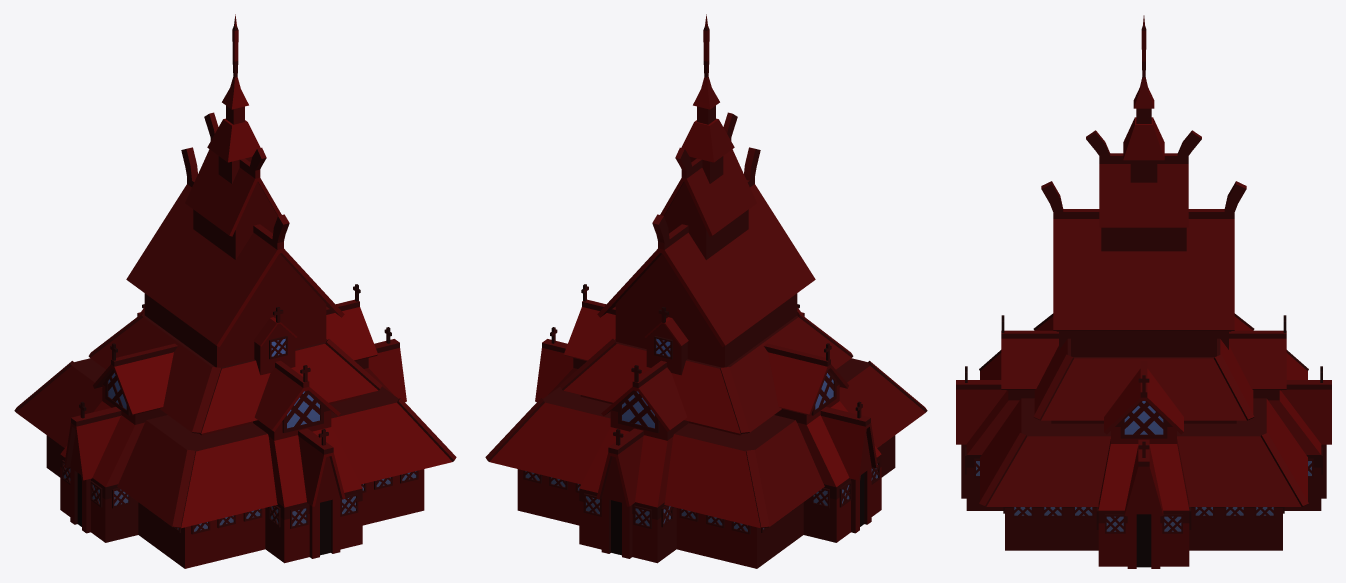
Rendered from buildings-historical-churchold_v1.fbx.
The picture shows the model from 3 angles, left to right: view 1: azimuth 30°, elevation 25°; view 2: azimuth 150°, elevation 25°; view 3: azimuth 270°, elevation 25°; orthographic projection.
Parts seen in each view (by area): view 1: ChurchOld_base, ChurchOld_windowRefl; view 2: ChurchOld_base, ChurchOld_windowRefl; view 3: ChurchOld_base, ChurchOld_windowRefl.
Boxes of the visible parts, bbox=[...] form: ChurchOld_base: bbox=[14, 14, 456, 568]; ChurchOld_windowRefl: bbox=[64, 338, 416, 531]; ChurchOld_base: bbox=[485, 14, 927, 568]; ChurchOld_windowRefl: bbox=[525, 338, 877, 531]; ChurchOld_base: bbox=[956, 15, 1331, 568]; ChurchOld_windowRefl: bbox=[976, 401, 1311, 531].
Bounding box in the file's own units: 18.21 × 25.55 × 18.21.
